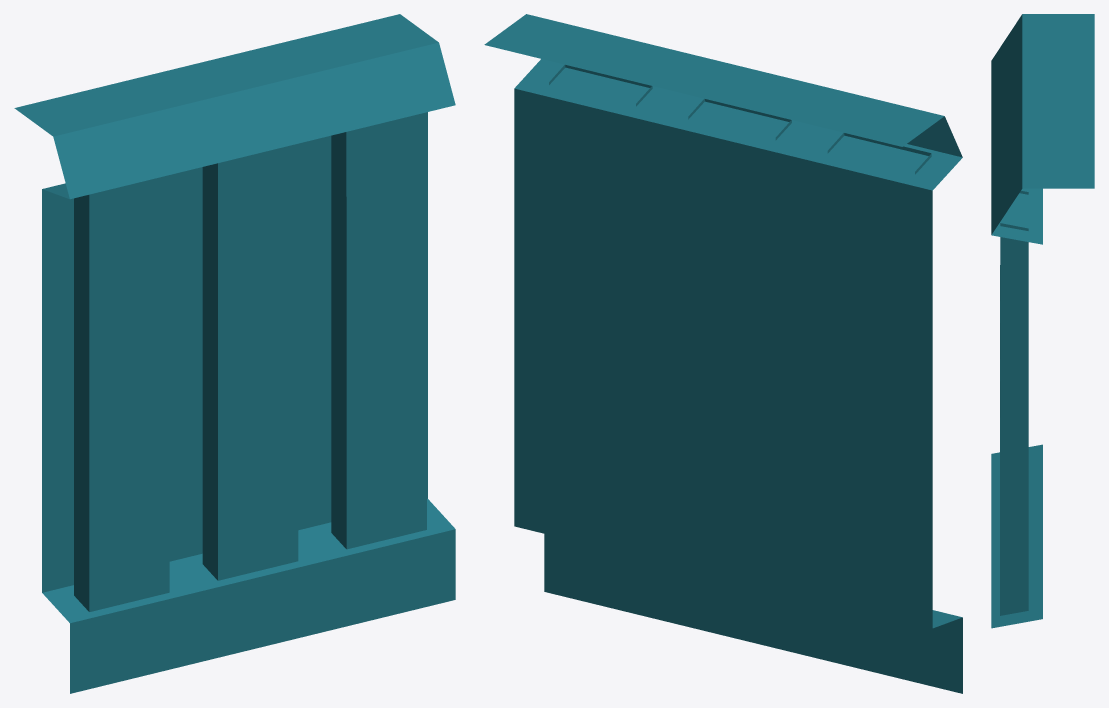
File: wall_Assy.FBX
3 views of the same model, side by side, from view 1: azimuth 30°, elevation 25°; view 2: azimuth 150°, elevation 25°; view 3: azimuth 270°, elevation 25° (orthographic). The views are drawn at different scales.
Parts seen in each view (by area): view 1: wall_pillar, wall_base; view 2: wall_base, wall_pillar; view 3: wall_base, wall_pillar.
Boxes of the visible parts, left/top/right/bottom form: wall_pillar: left=74, top=112, right=426, bottom=611; wall_base: left=14, top=14, right=455, bottom=693; wall_base: left=484, top=14, right=962, bottom=693; wall_pillar: left=549, top=64, right=931, bottom=174; wall_base: left=991, top=14, right=1094, bottom=628; wall_pillar: left=1000, top=190, right=1028, bottom=615.
Bounding box in the file's own units: 4 × 5.4 × 1.
